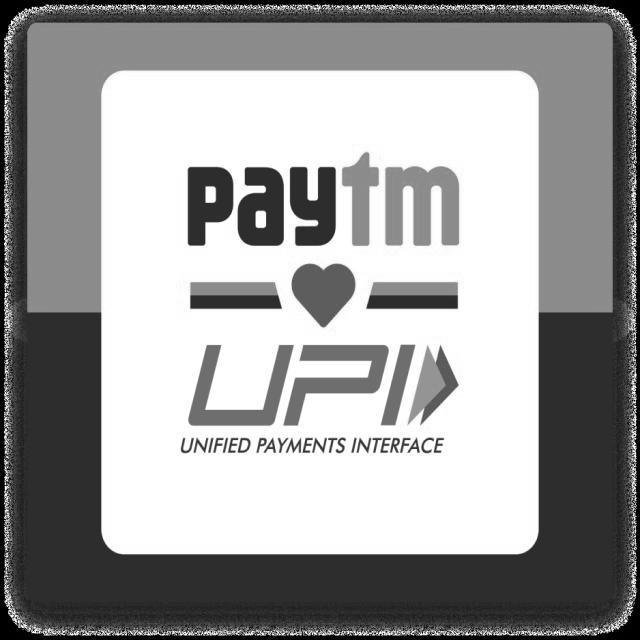fully_visible: (178, 146, 476, 262)
